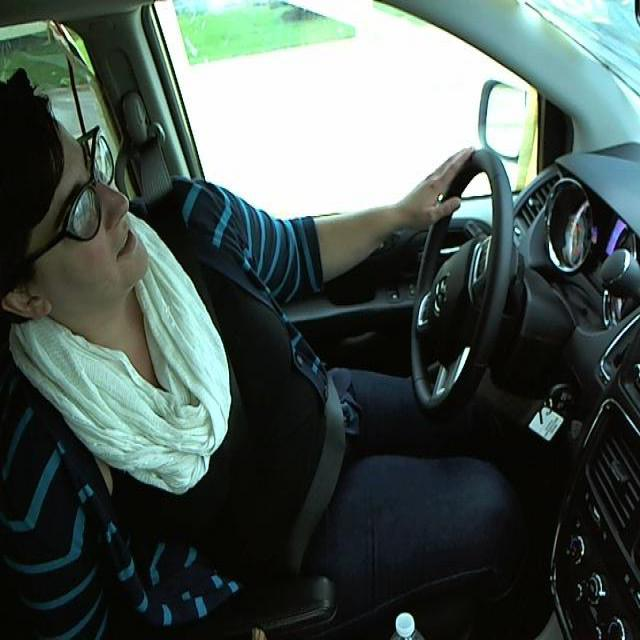seatbelt: (153, 216, 345, 569)
